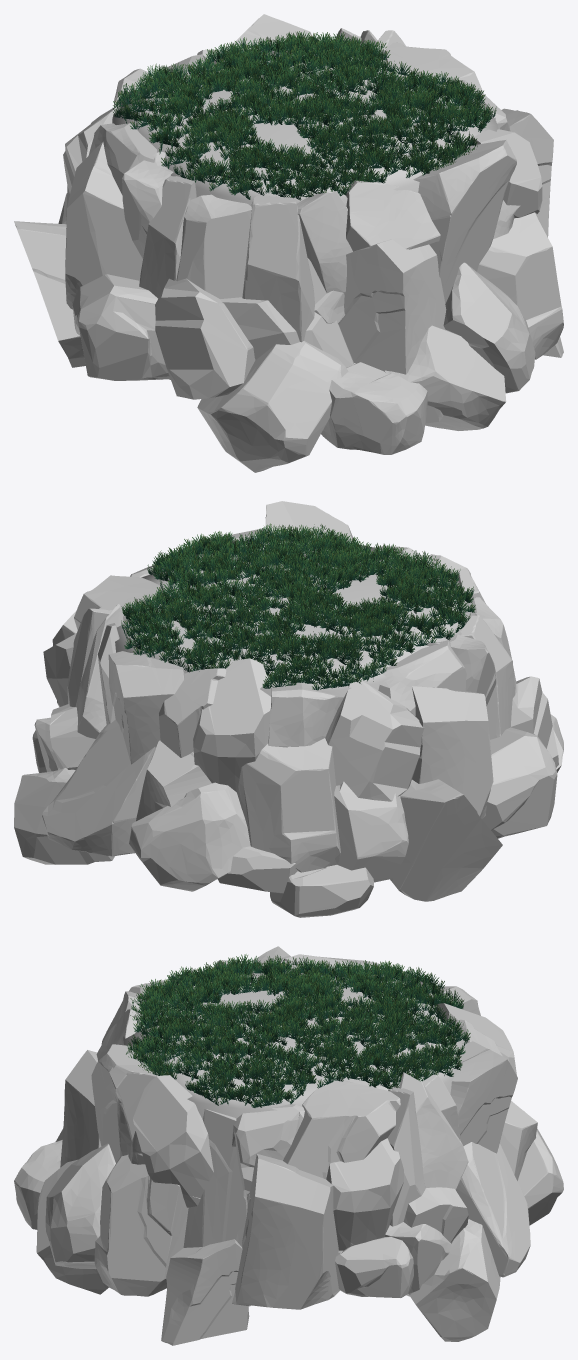
The model's file is sm_uv_2x_terrace1.fbx.
3 views of the same model, one above another, from view 1: azimuth 30°, elevation 25°; view 2: azimuth 150°, elevation 25°; view 3: azimuth 270°, elevation 25° (orthographic). The views are drawn at different scales.
Visible parts, largest first — view 1: sm_grass_terrace2x1:ZBrushPolyMesh3D1; view 2: sm_grass_terrace2x1:ZBrushPolyMesh3D1; view 3: sm_grass_terrace2x1:ZBrushPolyMesh3D1.
Part boxes in pixels (x1,y1,x2,y2): sm_grass_terrace2x1:ZBrushPolyMesh3D1: (14, 14, 563, 472); sm_grass_terrace2x1:ZBrushPolyMesh3D1: (14, 501, 563, 917); sm_grass_terrace2x1:ZBrushPolyMesh3D1: (14, 946, 563, 1345).
Bounding box in the file's own units: 1289 × 707 × 1342.
